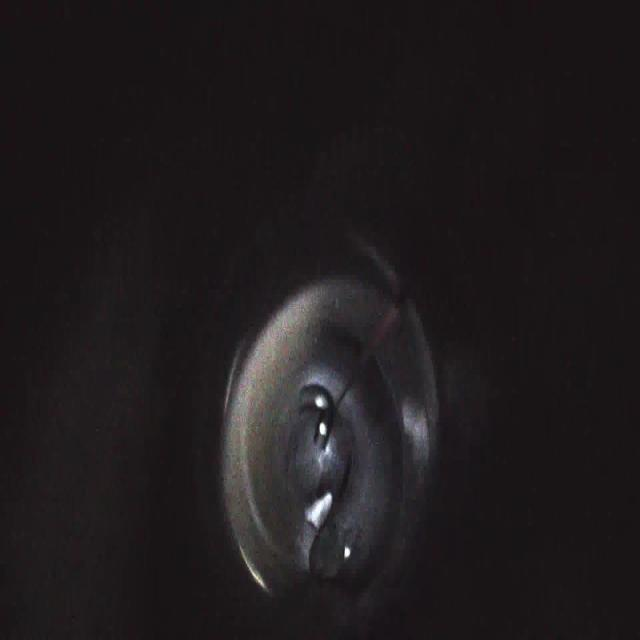impurity: (306, 524, 347, 582), (302, 490, 340, 526)
